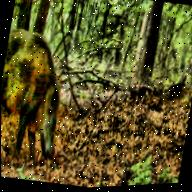boar: (0, 0, 83, 184)
